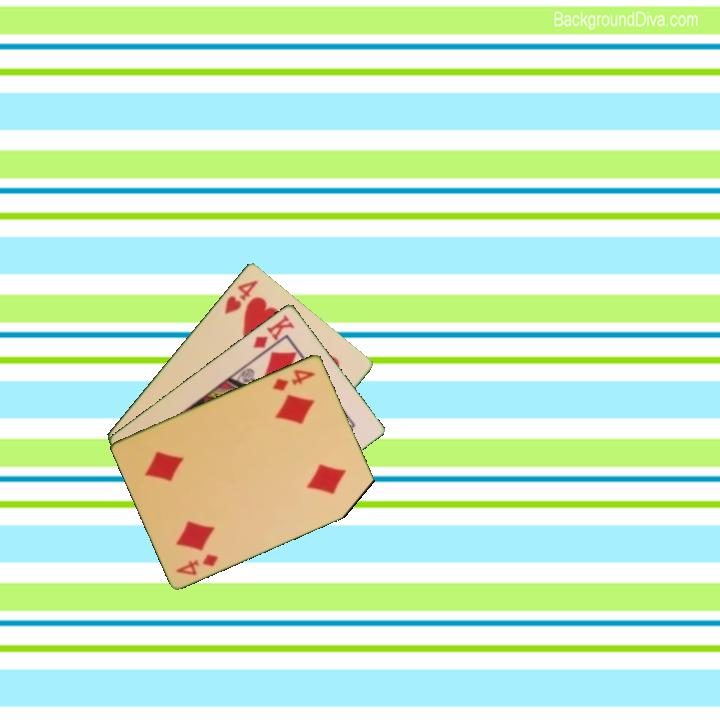4d: (269, 365, 318, 394), (172, 550, 221, 578)
4h: (221, 276, 261, 317)
Kd: (249, 311, 297, 351)
